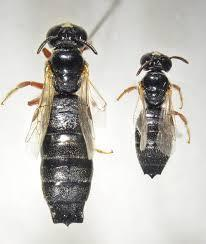Braunsapis: (20, 11, 110, 235), (123, 43, 193, 190)
